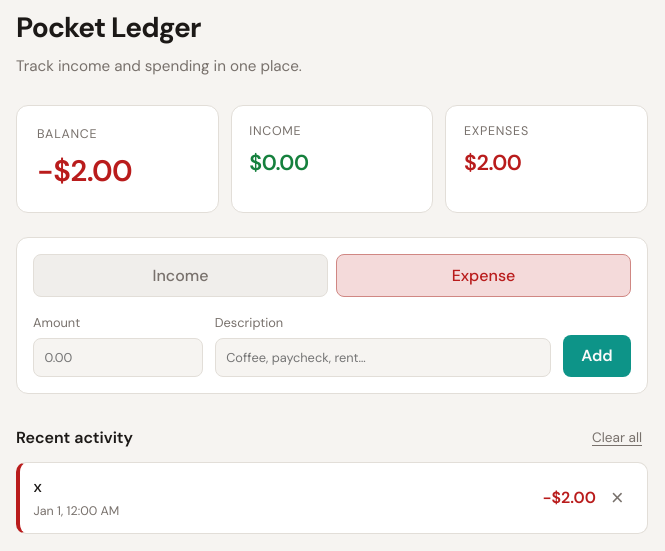
App › clears all when confirmed
Click the button "Clear all". click: (617, 438)
box: [586,427,648,449]
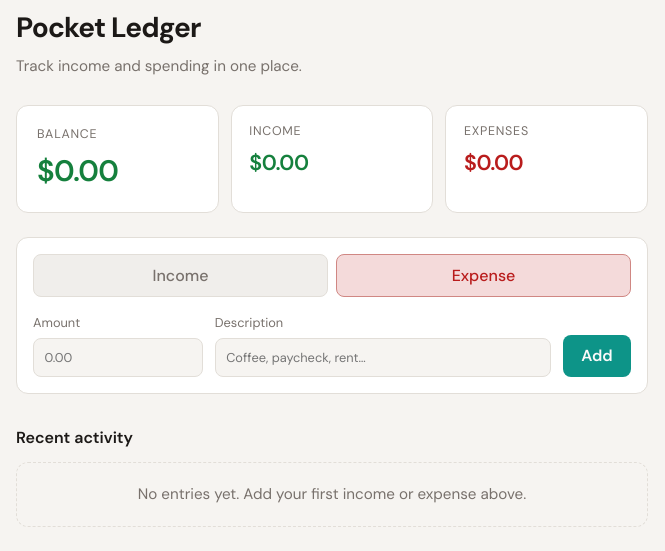
Result: the text "No entries yet. Add your first income or expense above." is shown at [16,462,648,527]
